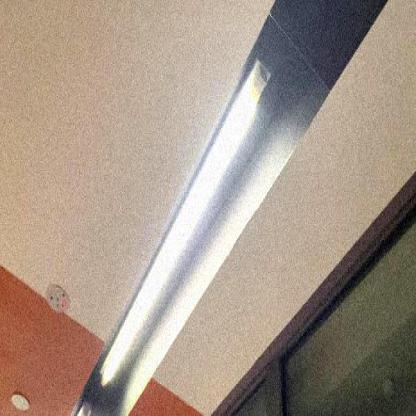light_on: (99, 46, 272, 389)
